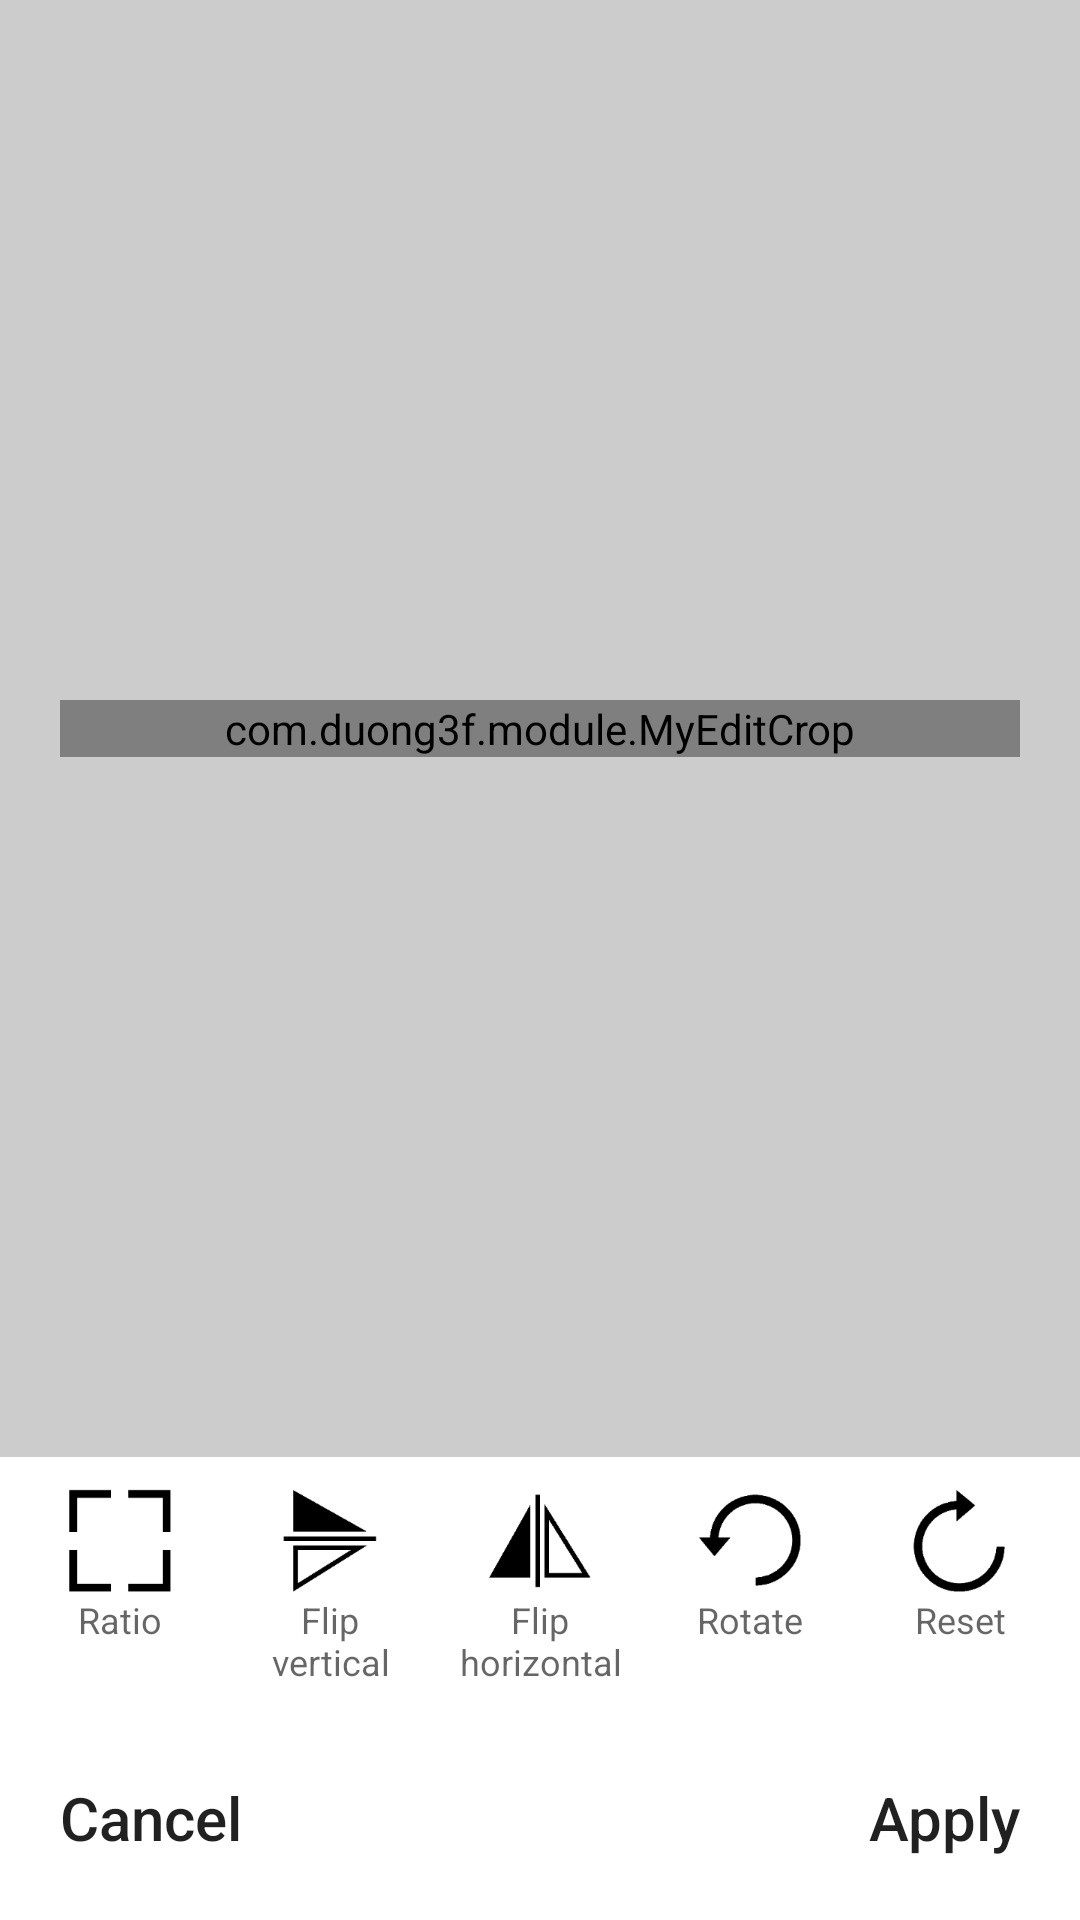

Named icons in this screenshot (1080px×1920px) and their centers, (x,y):
adjustment free: (120,1541)
